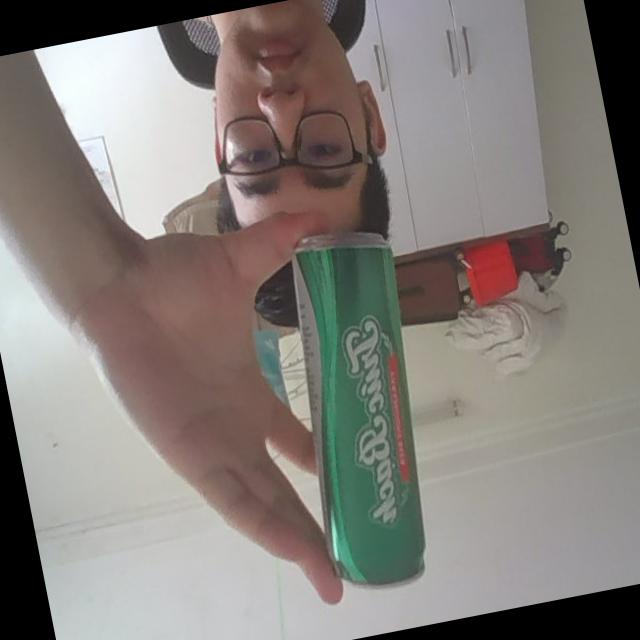Bia-Truc-Bach: (266, 226, 456, 600)
